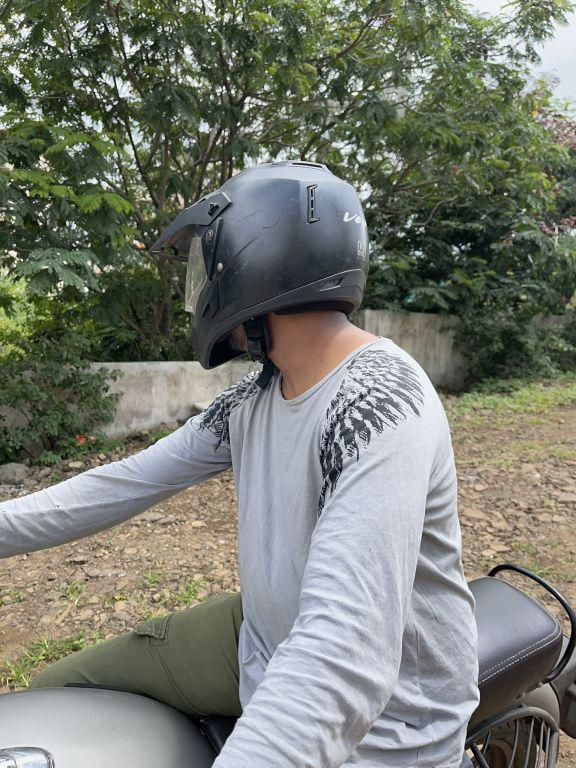helmet: (137, 150, 376, 379)
